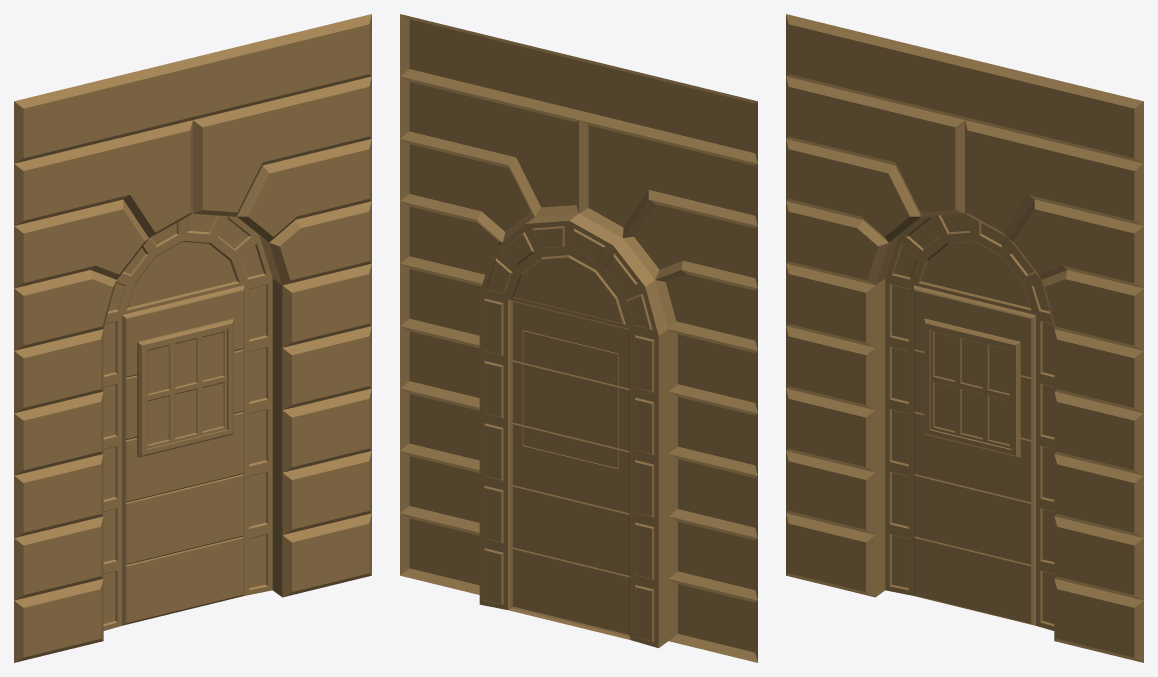
File: DoorA.fbx
3 views of the same model, side by side, from view 1: azimuth 30°, elevation 25°; view 2: azimuth 150°, elevation 25°; view 3: azimuth 330°, elevation 25° (orthographic).
Parts seen in each view (by area): view 1: DoorA; view 2: DoorA; view 3: DoorA.
Part boxes in pixels (<box>): DoorA: <box>14,14,371,662</box>; DoorA: <box>400,14,757,662</box>; DoorA: <box>786,14,1143,662</box>.
Bounding box in the file's own units: 200 × 300 × 13.62.
